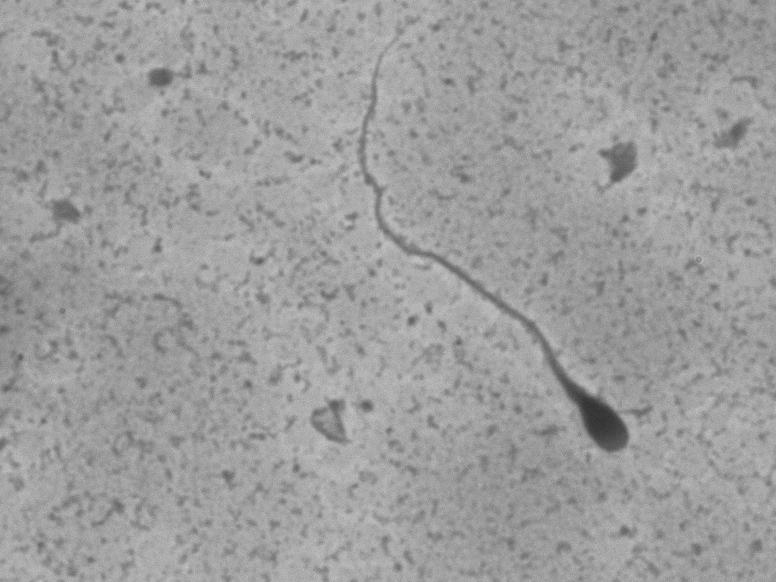Abnormal: (316, 25, 638, 495)
